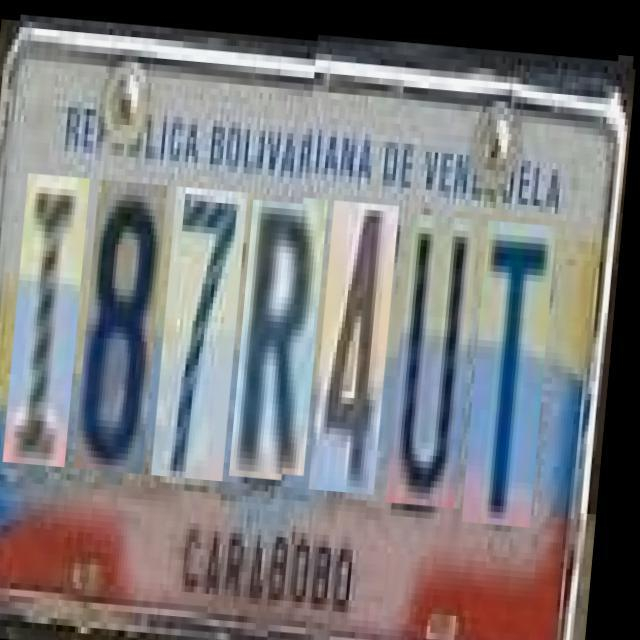4: (318, 194, 402, 486)
7: (160, 177, 251, 470)
8: (83, 172, 171, 464)
I: (12, 166, 94, 459)
R: (238, 188, 331, 470)
T: (470, 211, 560, 517)
U: (394, 206, 482, 498)
